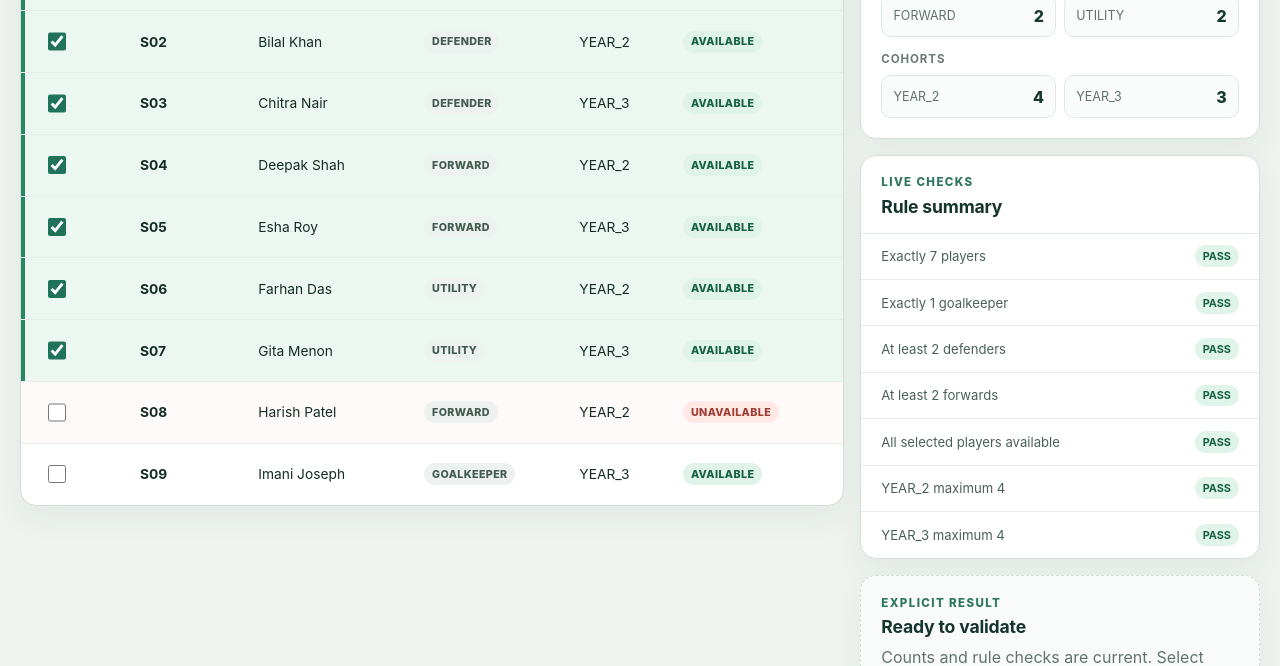
Test: Sports Squad Constraint Checker UI › loads the valid sample and removes prior invalid output
(page scrolled)
Step 1. Click the checkbox next to "S07" → (57, 351), box x1=48 y1=341 x2=66 y2=360
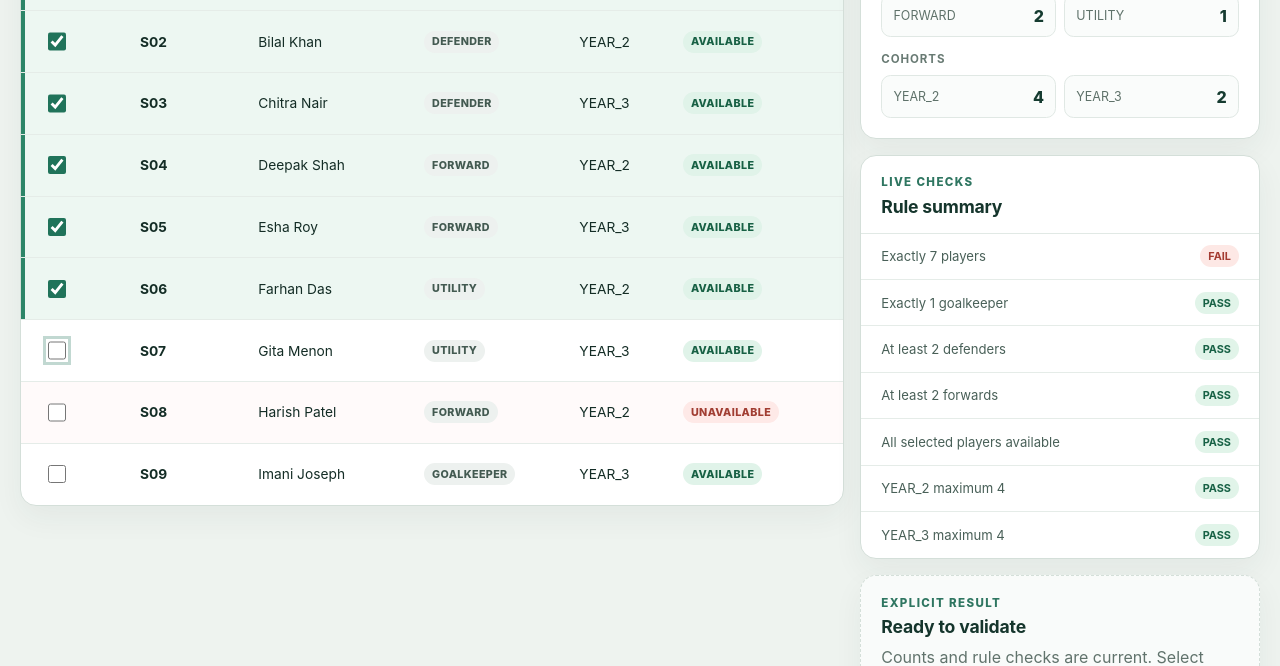
Step 2. Click the checkbox next to "S08" → (57, 412), box x1=48 y1=403 x2=66 y2=422
(page scrolled)
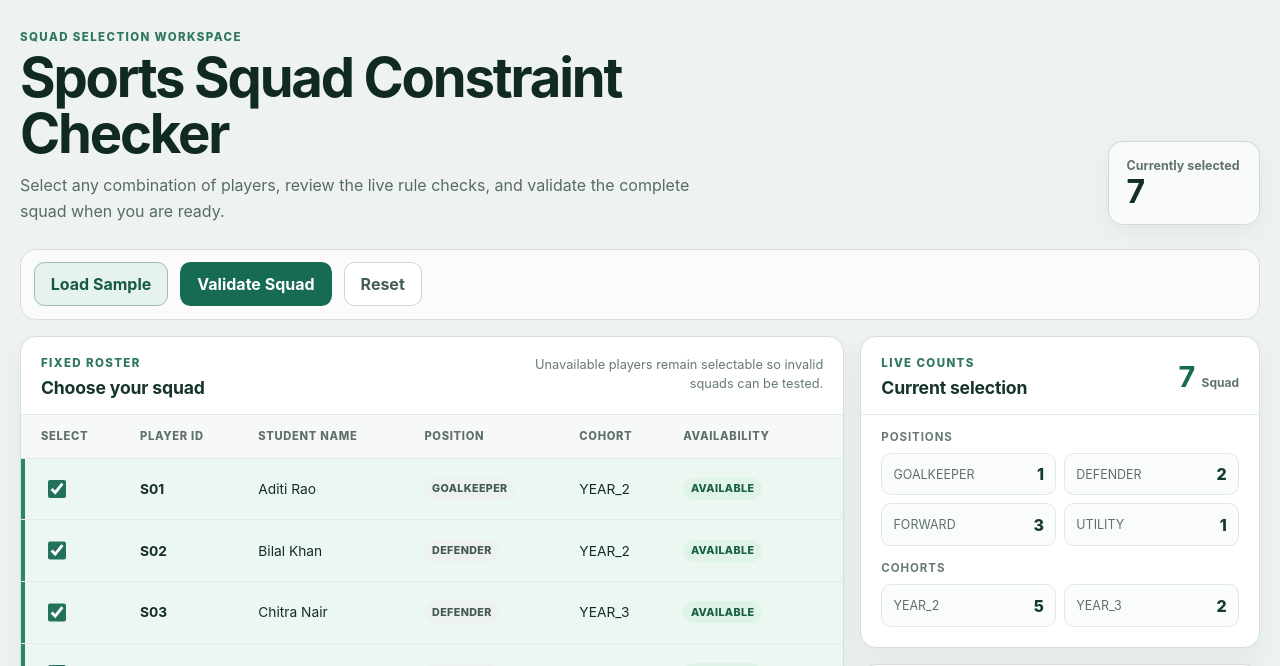
Step 3. Click the button "Validate Squad" → (256, 284), box x1=180 y1=262 x2=332 y2=306
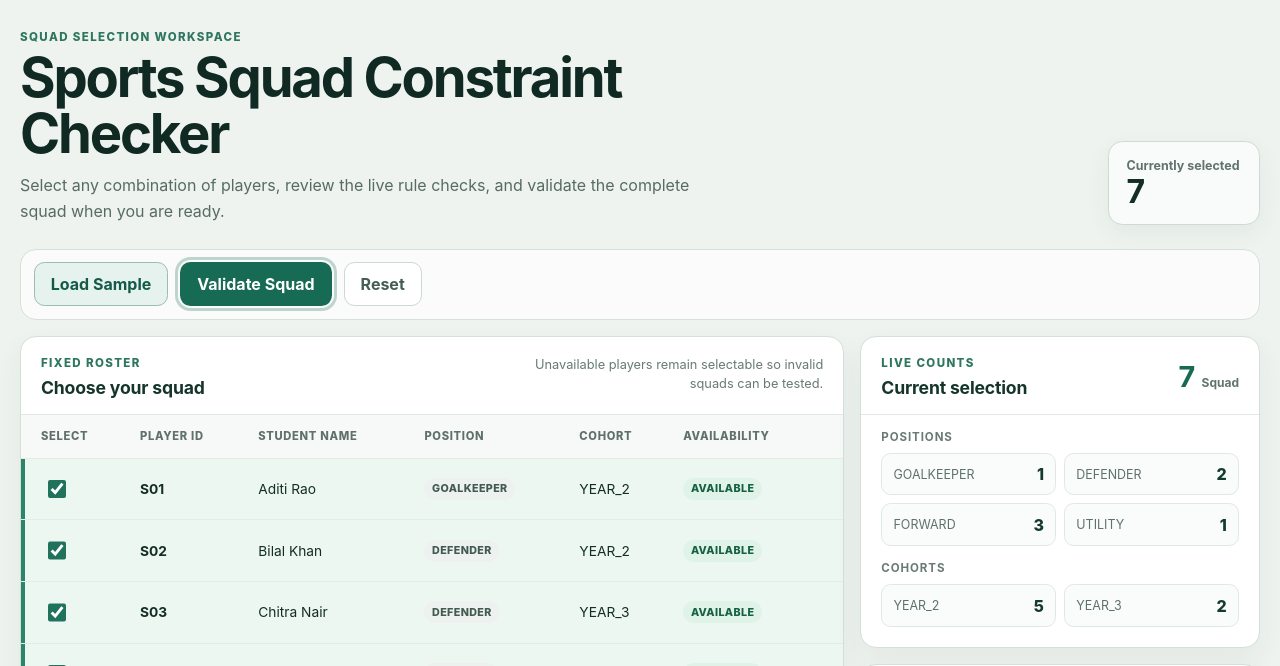
Step 4. Click the button "Load Sample" → (101, 284), box x1=34 y1=262 x2=168 y2=306
(page scrolled)
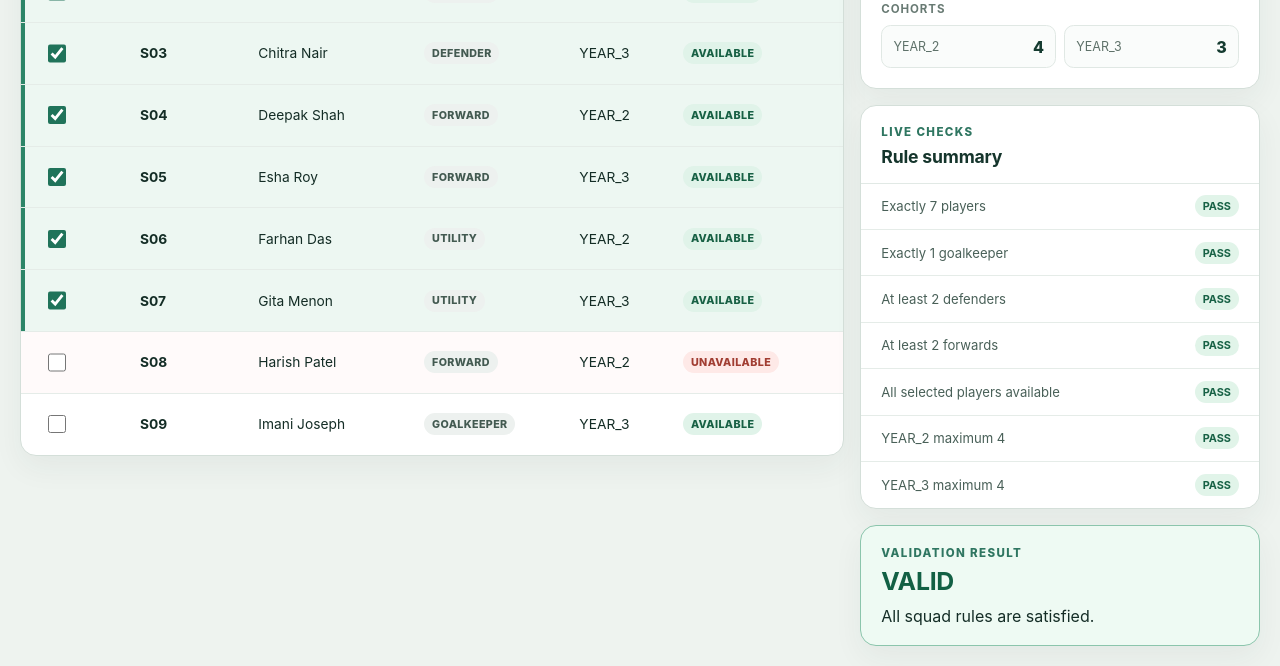
Check: the list item "Exactly 7 players" shows "Pass", box x1=1203 y1=199 x2=1231 y2=213
Check: the text "4" is shown, box x1=1033 y1=37 x2=1044 y2=57
Check: the text "3" is shown, box x1=1216 y1=37 x2=1227 y2=57
